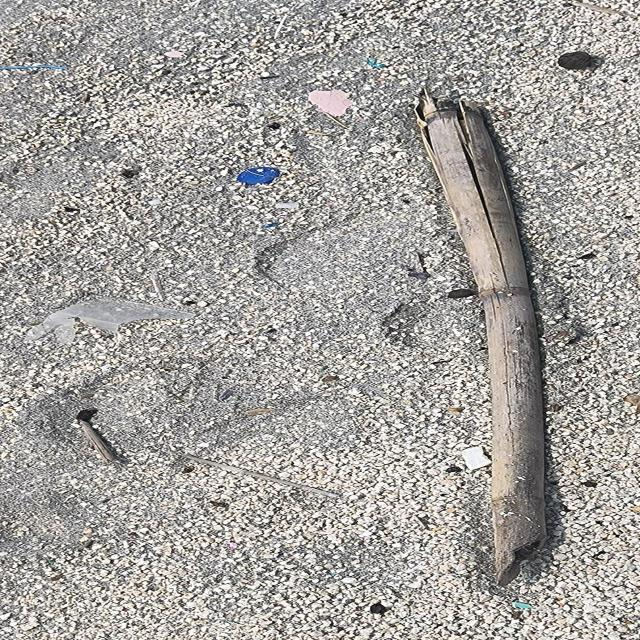wood_waste: (410, 98, 556, 592)
